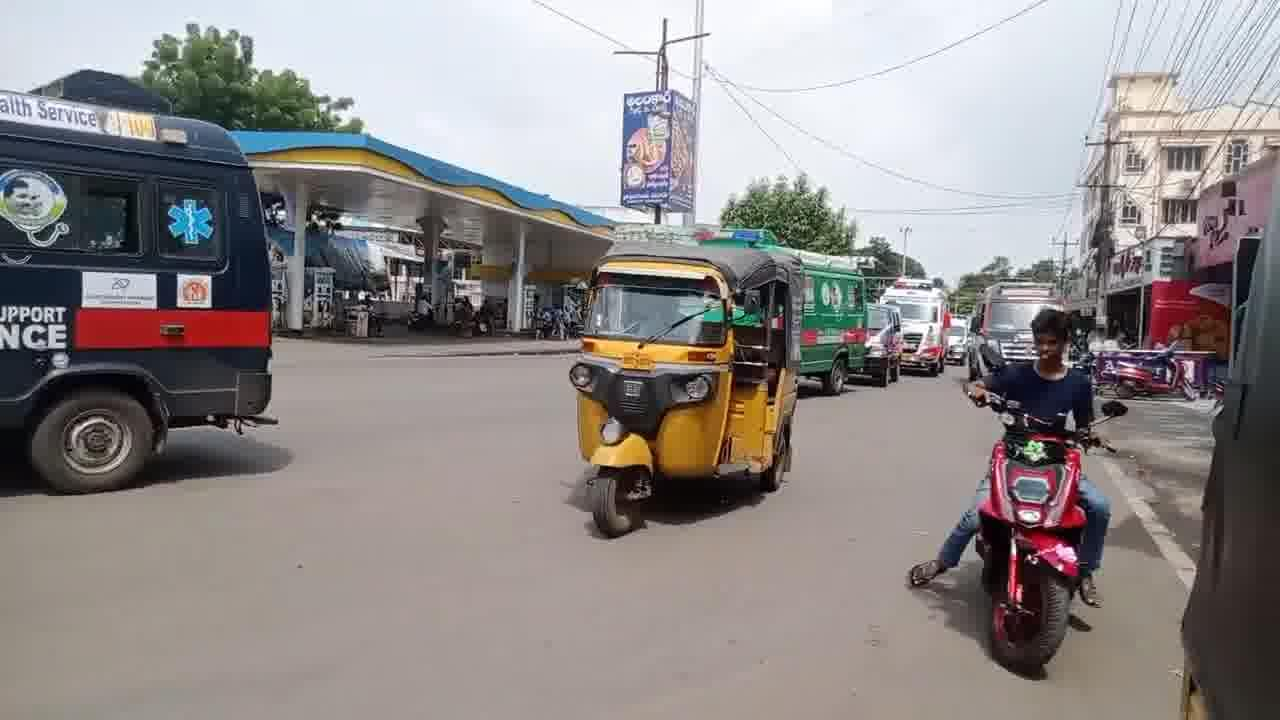AMBULANCE: (0, 79, 281, 498), (800, 232, 876, 394), (967, 270, 1039, 361), (895, 277, 942, 365)
